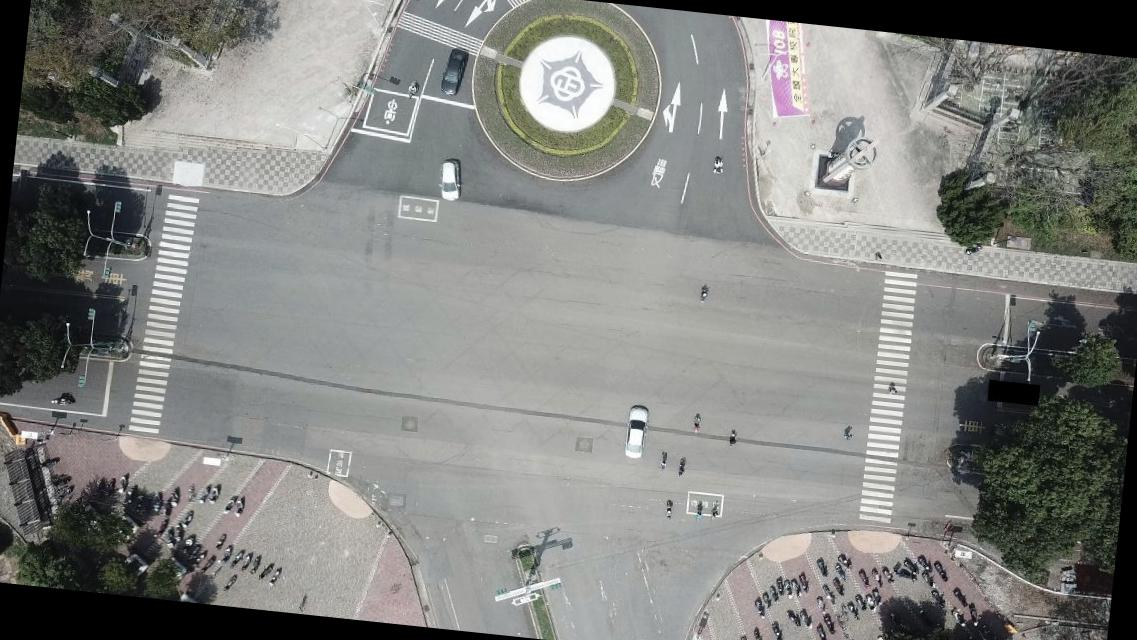vehicle: (622, 402, 650, 462), (438, 44, 469, 96), (435, 157, 464, 203)
